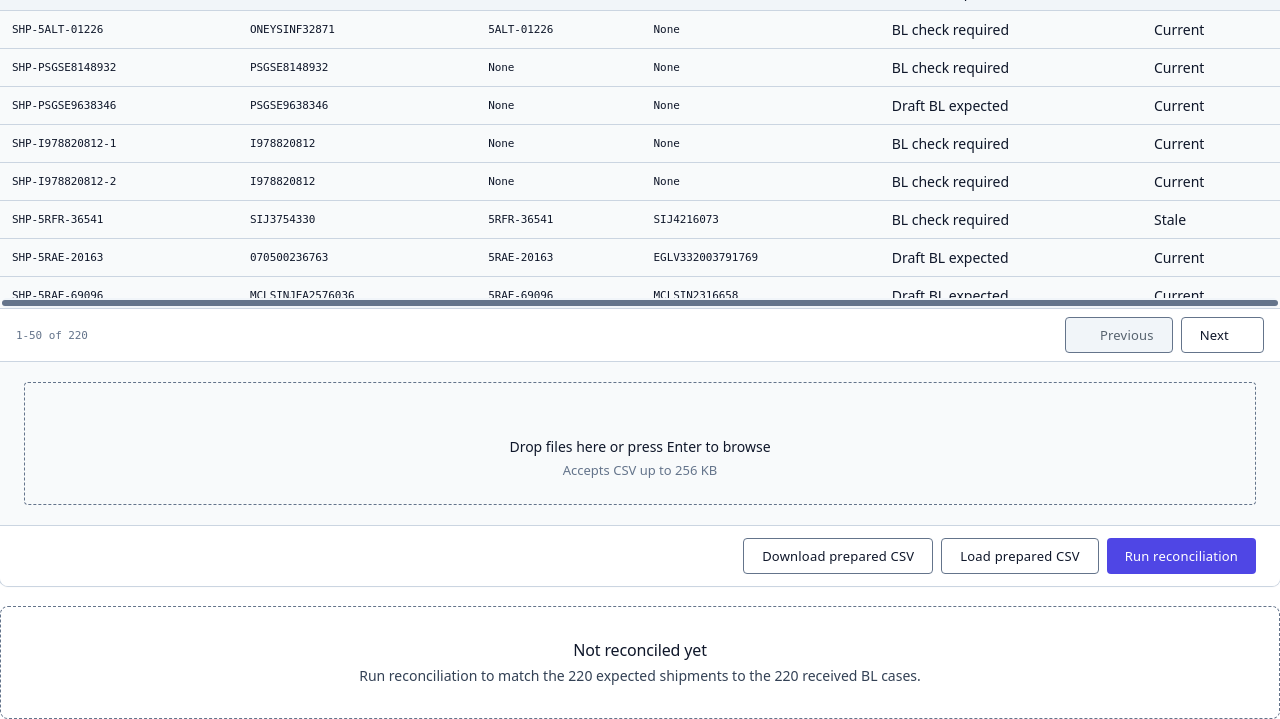
Test: ReconciliationView › imports the prepared CSV back onto the inputs, then numbers each run
(page scrolled)
Click the button "Run reconciliation": (1181, 556) [1107, 538, 1256, 574]
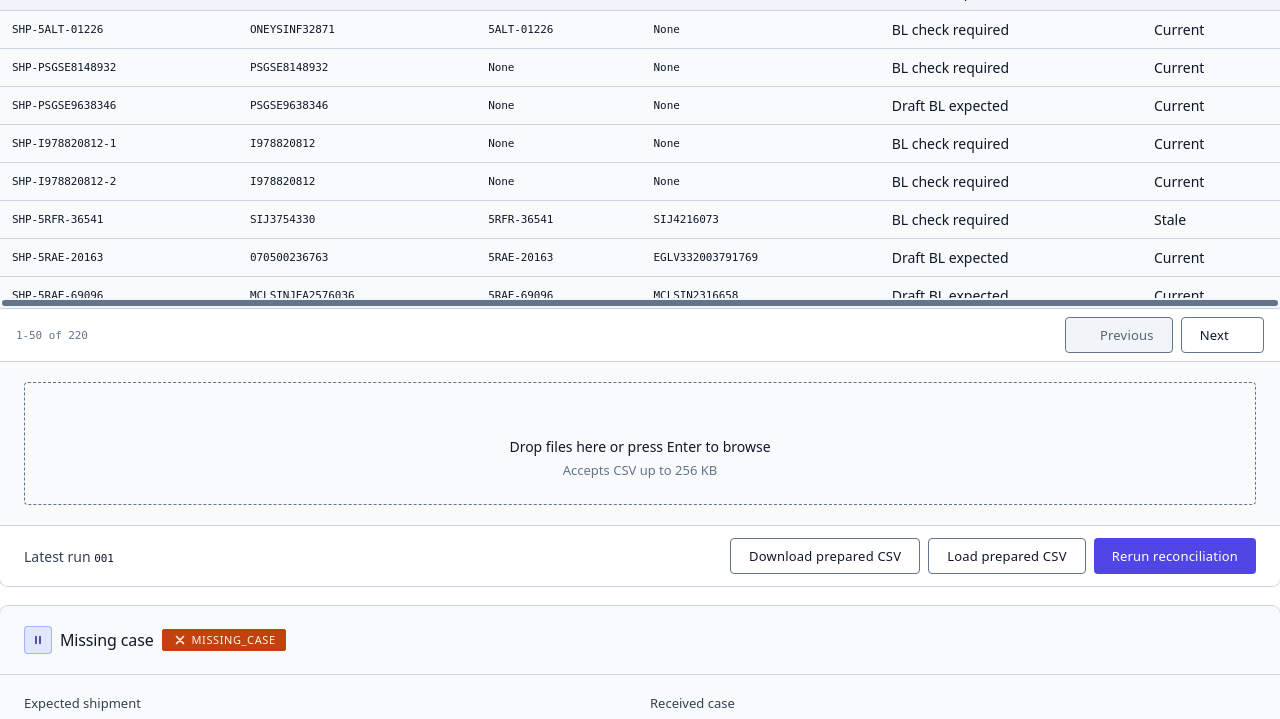
Click the button "Load prepared CSV": (1007, 556) [928, 538, 1086, 574]
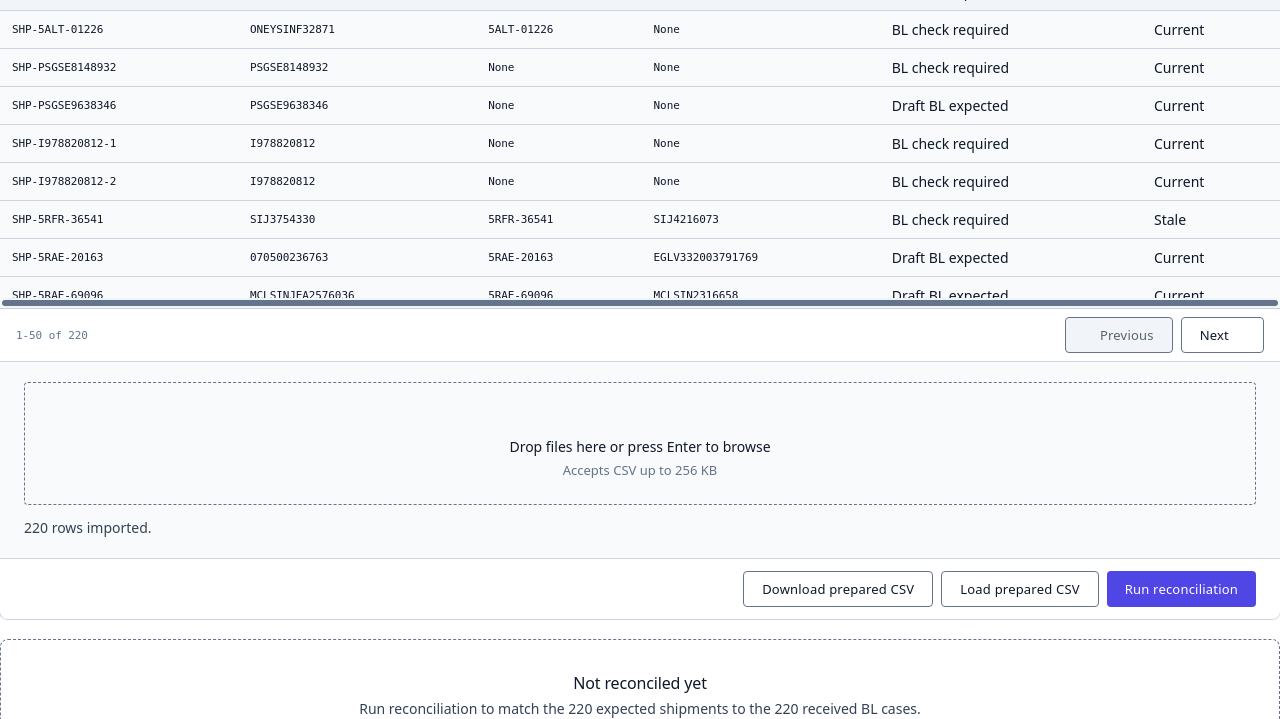
Now the text "220 rows imported." is shown, box [24, 518, 152, 537]
Now the text "Not reconciled yet" is shown, box [573, 672, 707, 694]
Click the button "Run reconciliation": (1181, 589) [1107, 571, 1256, 607]
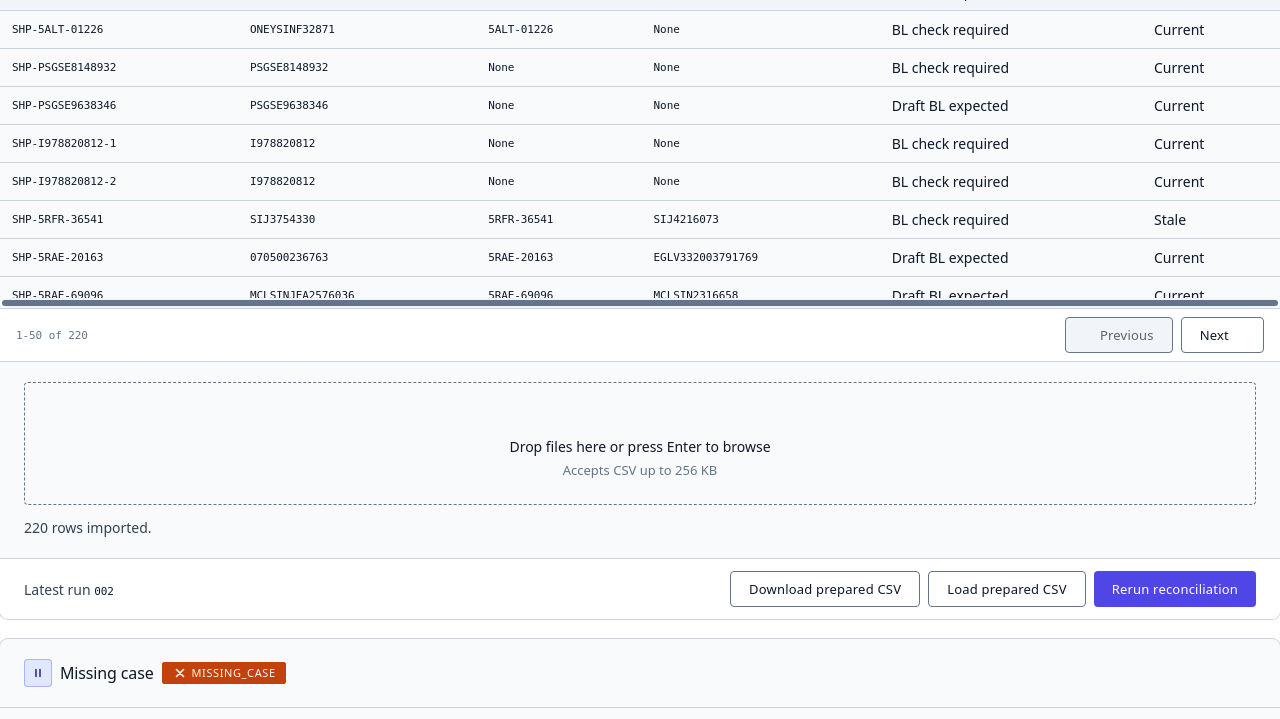
Now the text "002" is shown, box [94, 585, 114, 598]
